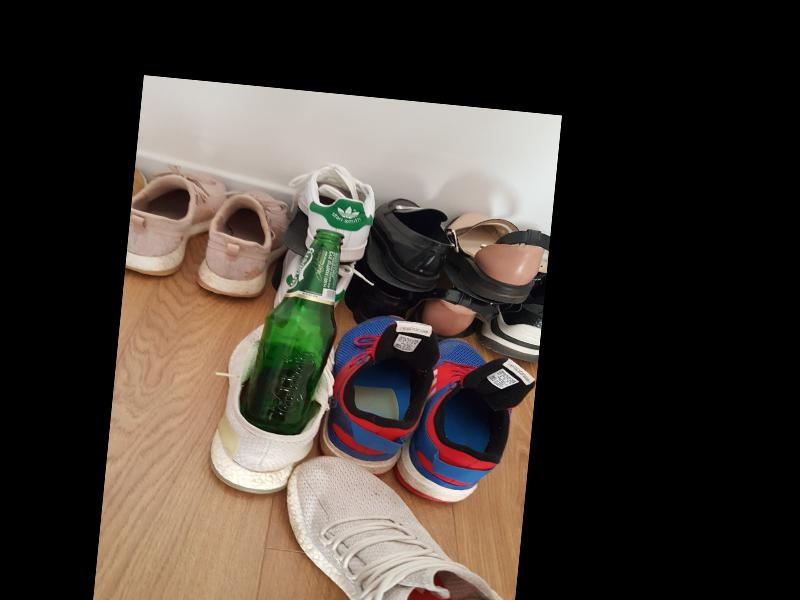Beer: (239, 225, 346, 438)
